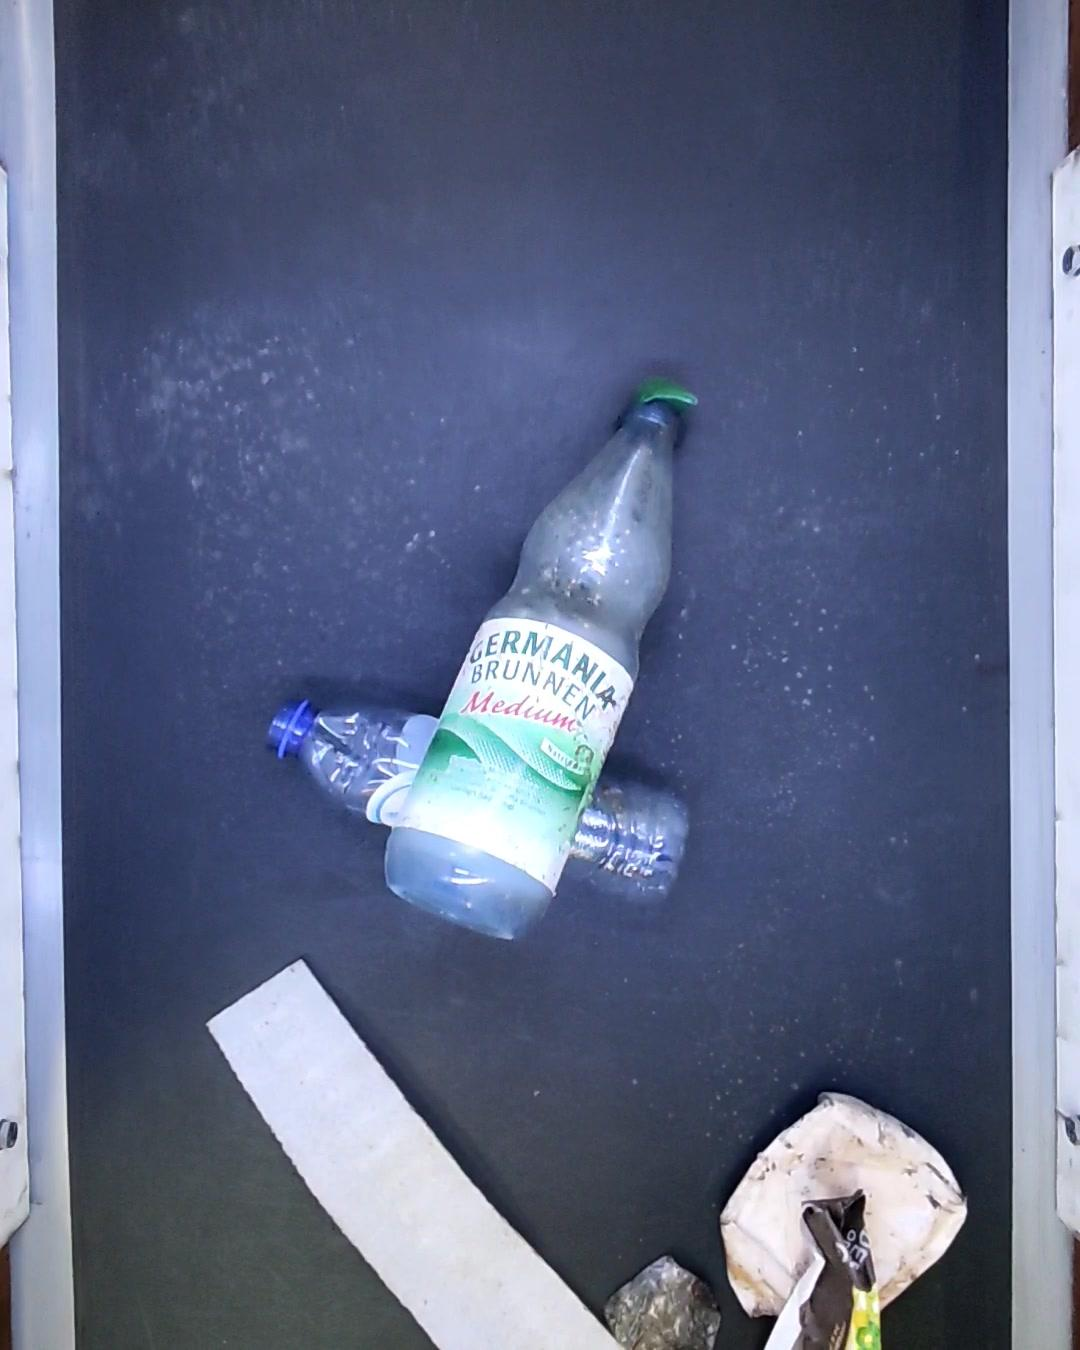Drankflessen - 1-2 liter: (390, 382, 691, 943), (259, 694, 691, 915)
Voedselverpakkingen: (763, 1194, 885, 1350)
